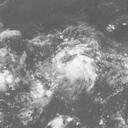cyclone: (43, 31, 101, 97)
